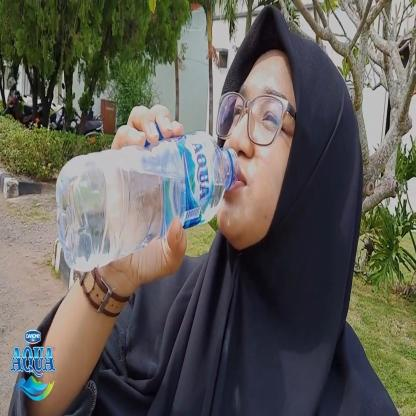plastic_bottles: (45, 120, 247, 276)
